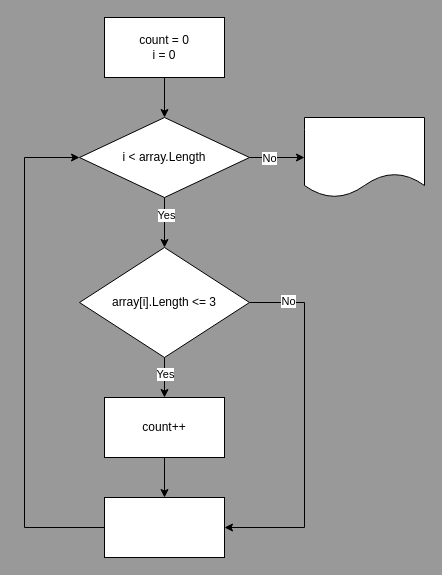
Some shapes in this 442 by 575 pixel diagram are drawn without their labels. The shapes that lost their labels are listed below. From the top down, each one's box as (x1, y1, x2, y2) in pixels, then its label:
(304, 116, 424, 198): return count
(104, 496, 224, 558): i++
